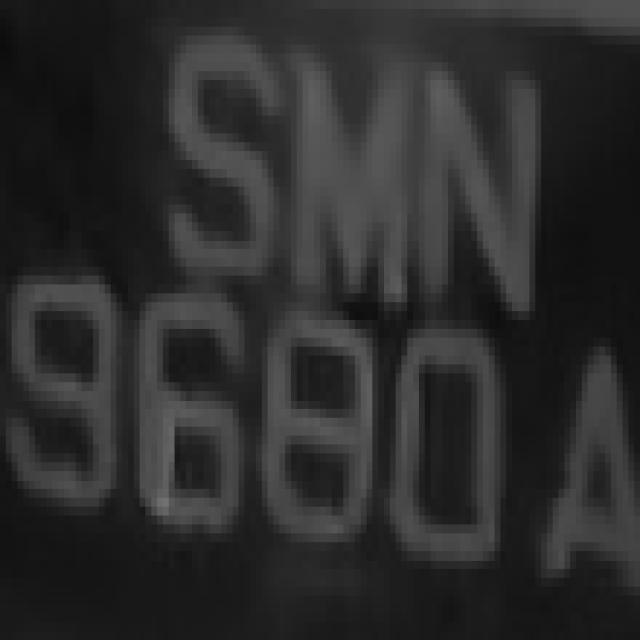0: (390, 311, 506, 596)
6: (117, 267, 250, 551)
8: (262, 284, 384, 578)
9: (12, 222, 128, 542)
A: (518, 320, 640, 631)
M: (273, 36, 419, 320)
N: (419, 54, 564, 356)
S: (152, 44, 280, 294)
